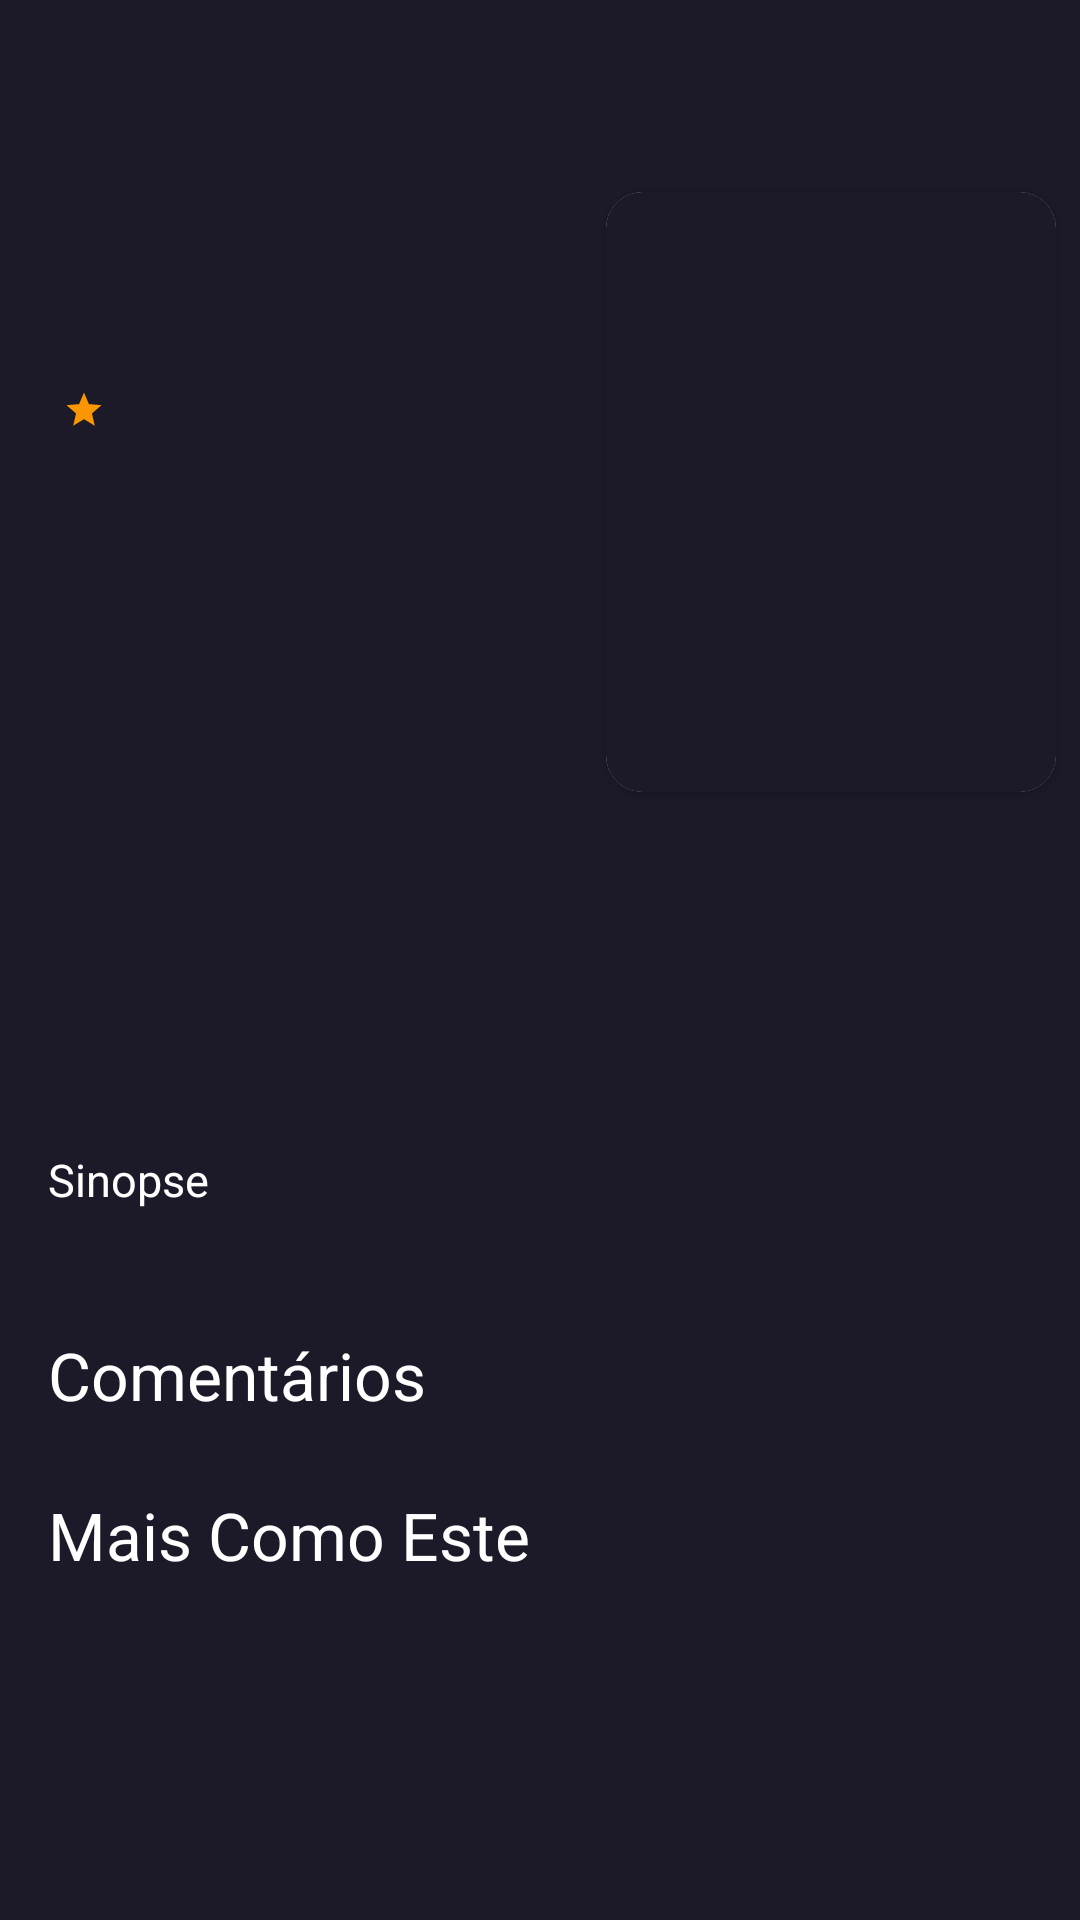

Named icons in this screenshot (1080w x 1920h) and their centers, (x,y):
star: (84,409)
